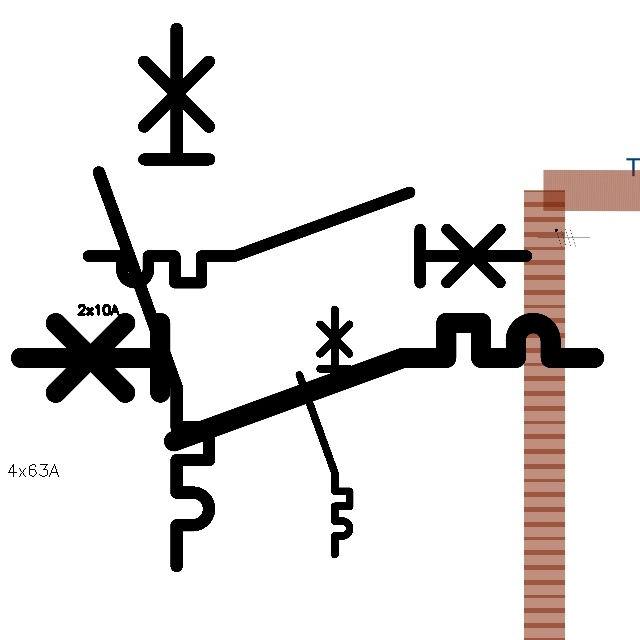interruptor_termomagnetico: (6, 308, 609, 455), (85, 15, 223, 580), (77, 181, 538, 294), (293, 303, 356, 561)
